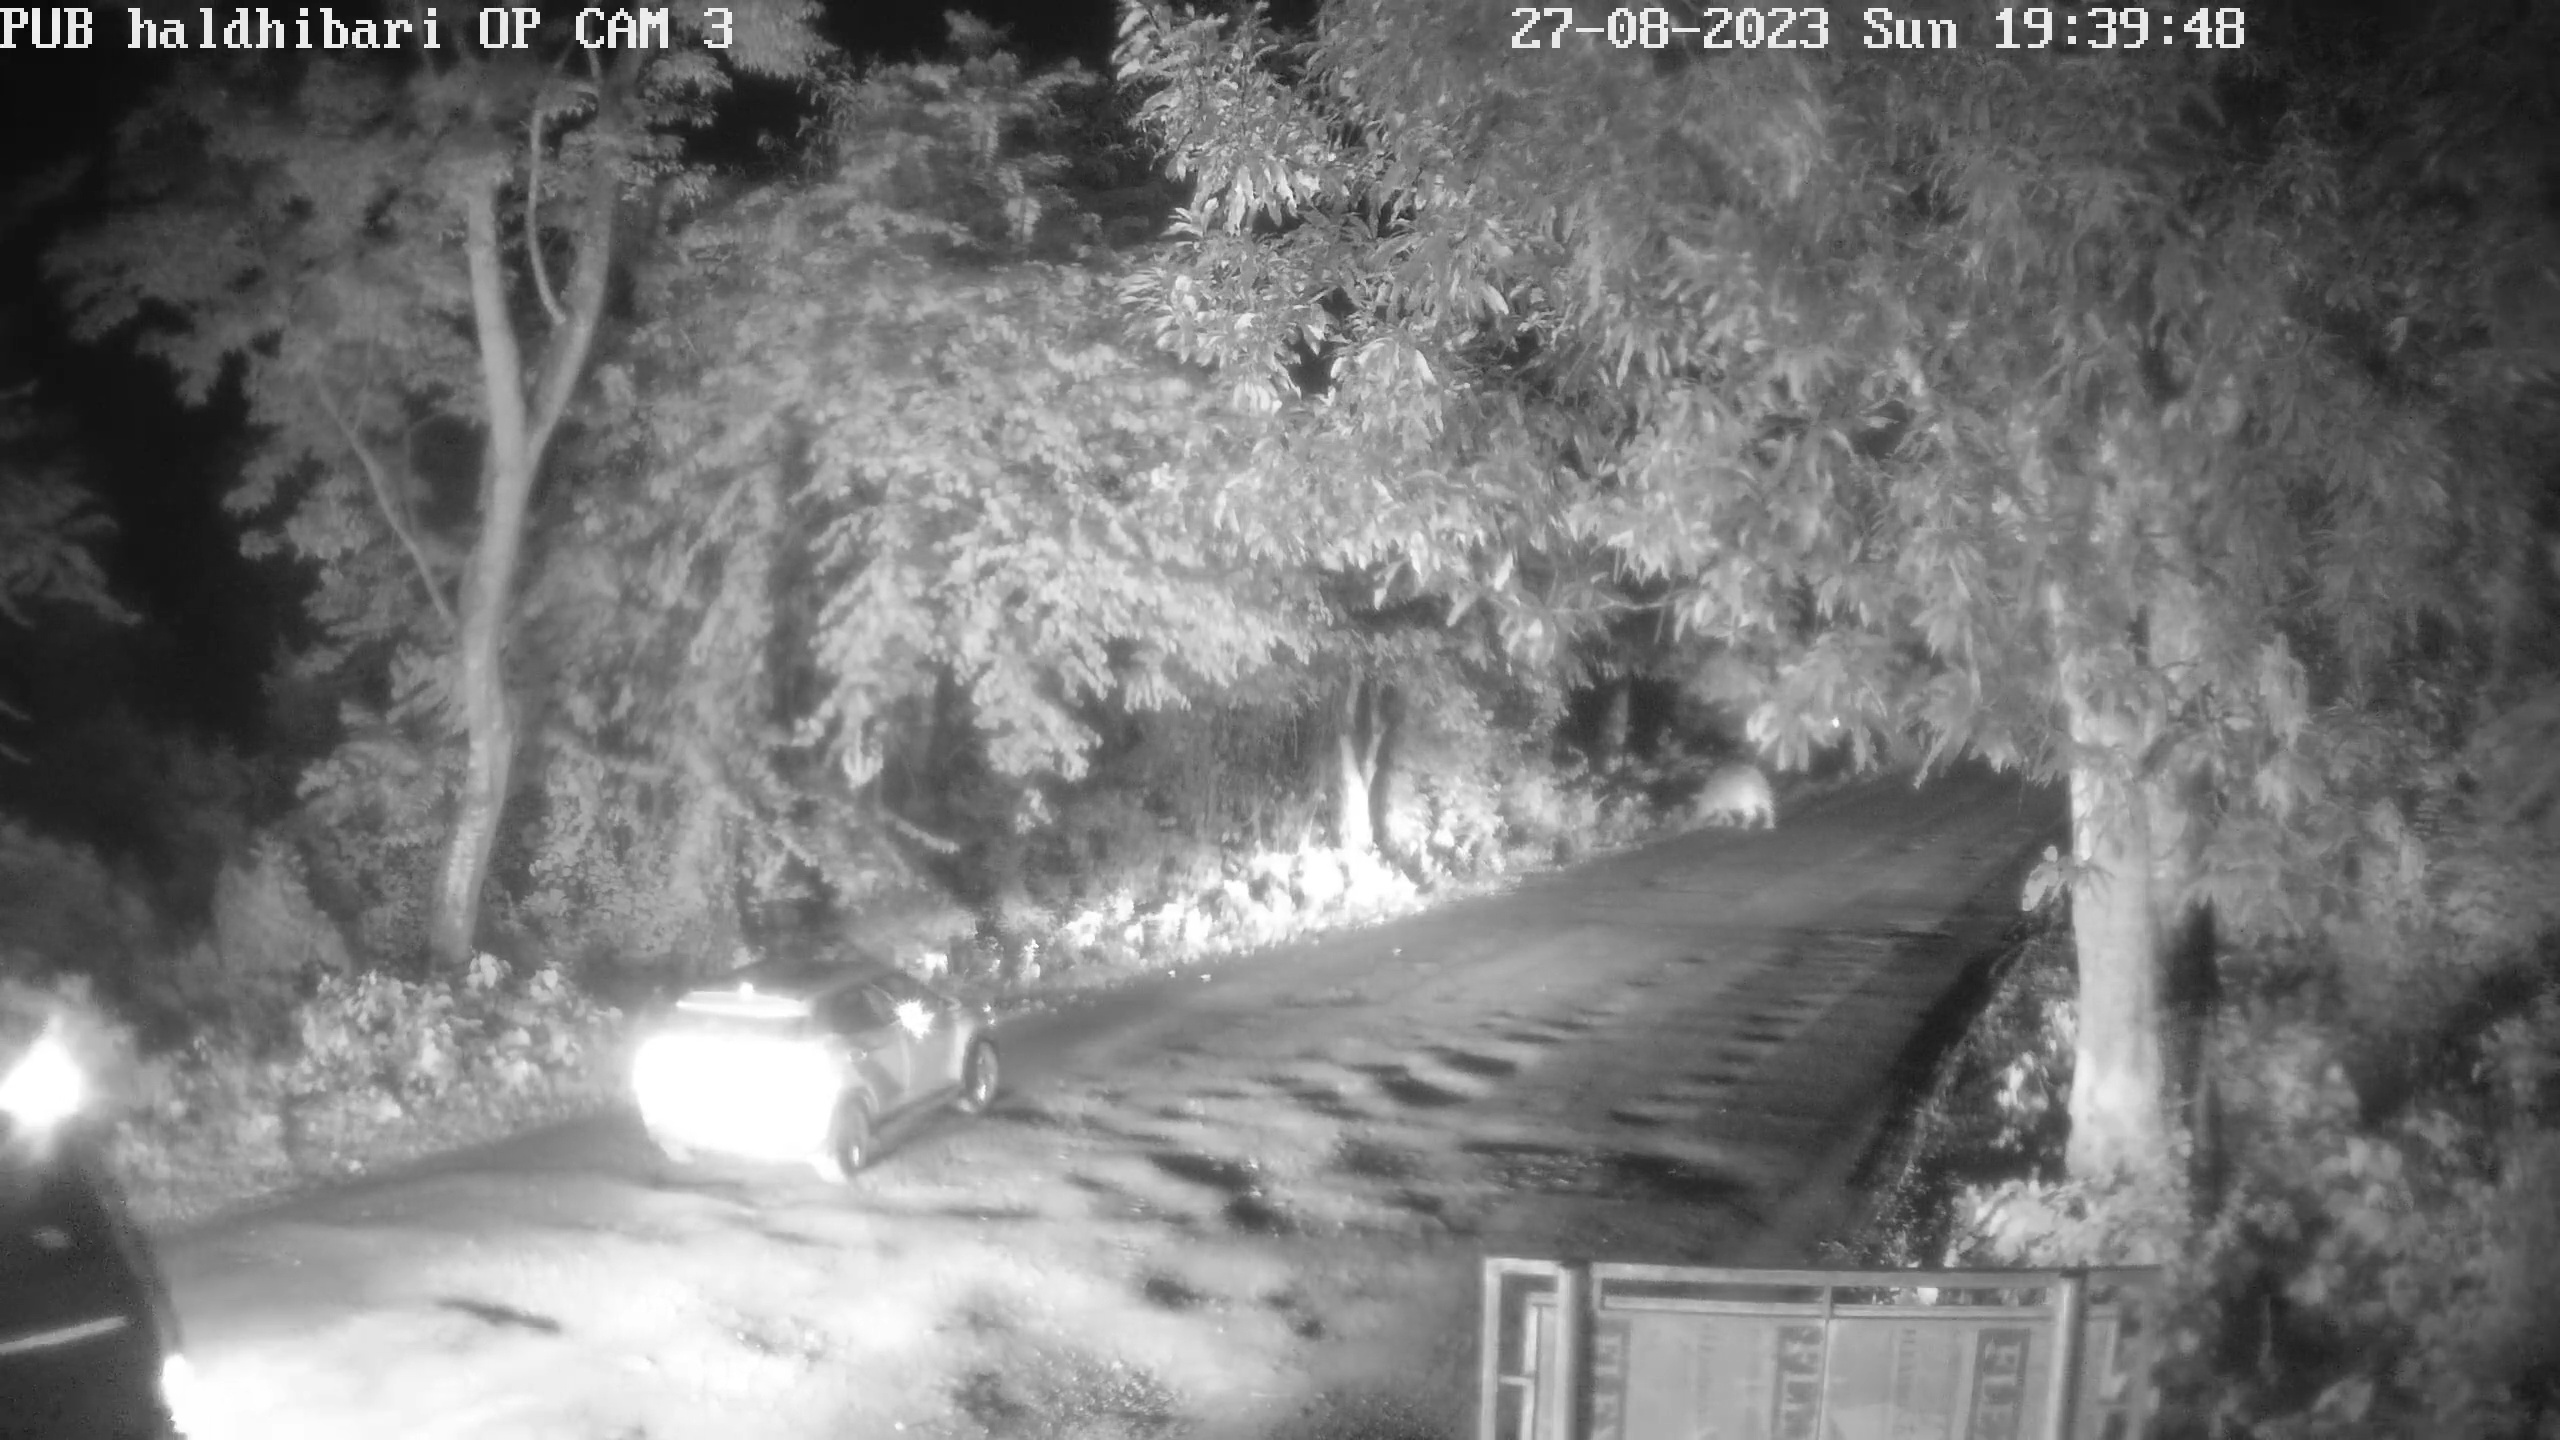rhinos: (1684, 763, 1774, 833)
